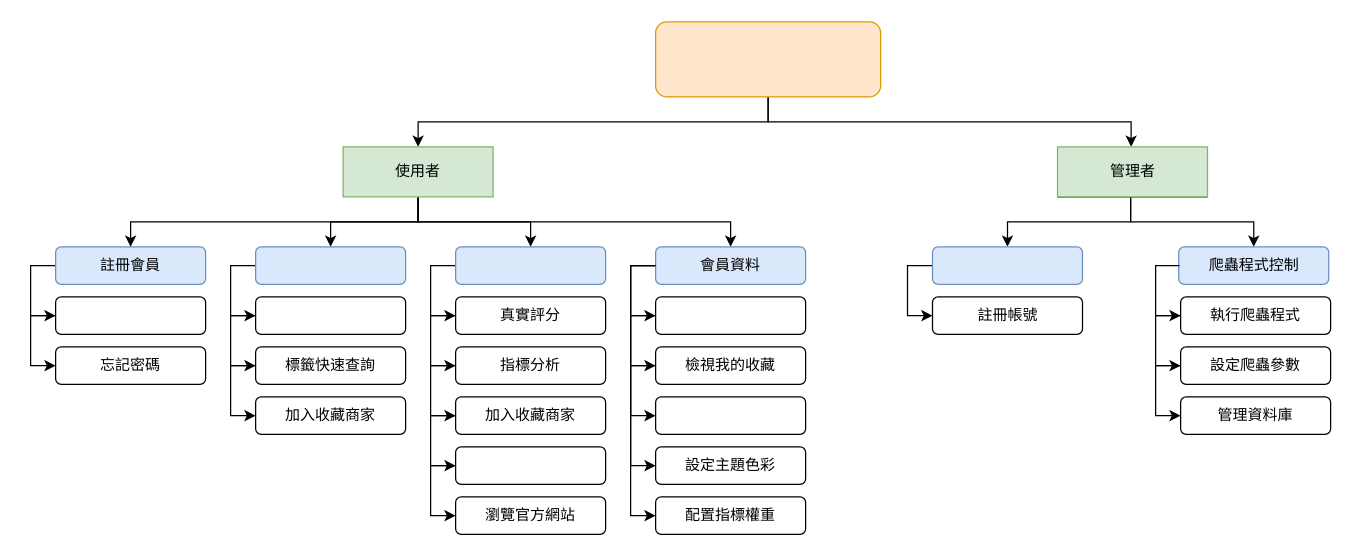
The diagram is 1353 pixels wide and 556 high, and some of its shapes have lost their labels. The shapes that lost their labels are listed below. From the top down, each one's centre as x and y in pixels, then its label:
(x=767, y=59): 評星宇宙 | 系統功能架構
(x=330, y=265): 查詢商家
(x=530, y=265): 檢視資訊
(x=1006, y=265): 登入帳號
(x=130, y=315): 登入會員
(x=330, y=315): 設定查詢條件
(x=730, y=315): 變更個人資訊
(x=730, y=415): 修改密碼
(x=530, y=465): 瀏覽地圖網站
